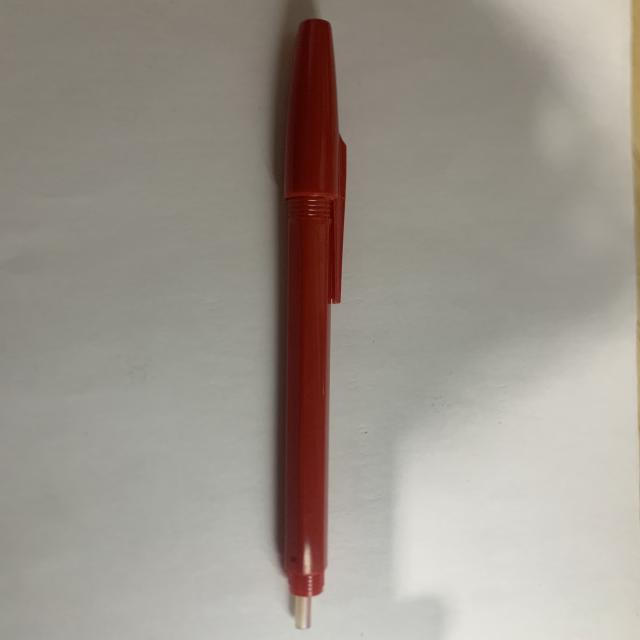Pulpen: (260, 13, 362, 635)
